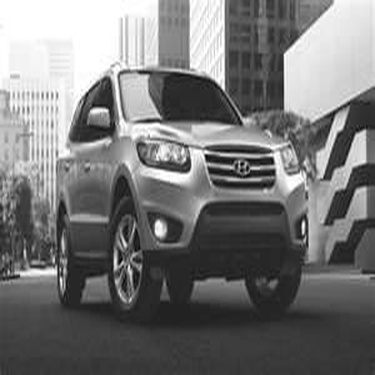car: (29, 58, 312, 312)
